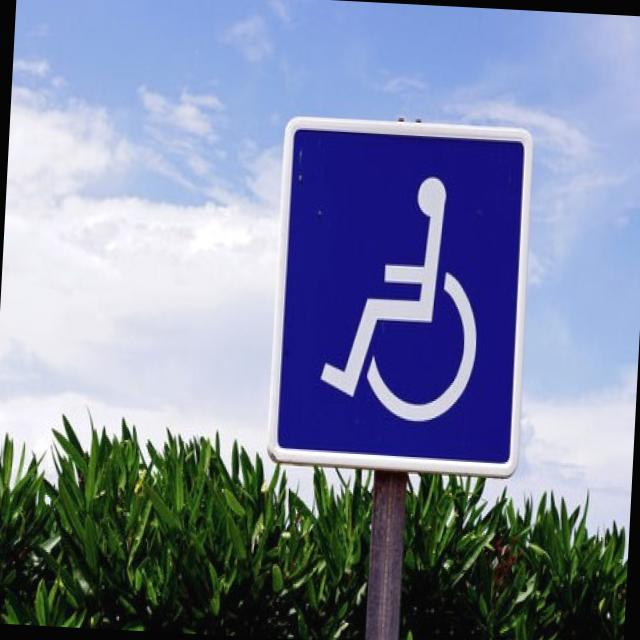symbol_of_access: (266, 111, 537, 478)
